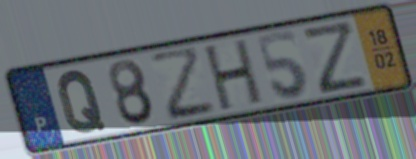5: (253, 26, 313, 103)
8: (106, 58, 156, 129)
H: (203, 36, 266, 115)
Q: (55, 68, 108, 136)
Z: (145, 43, 221, 124), (299, 17, 372, 97)
